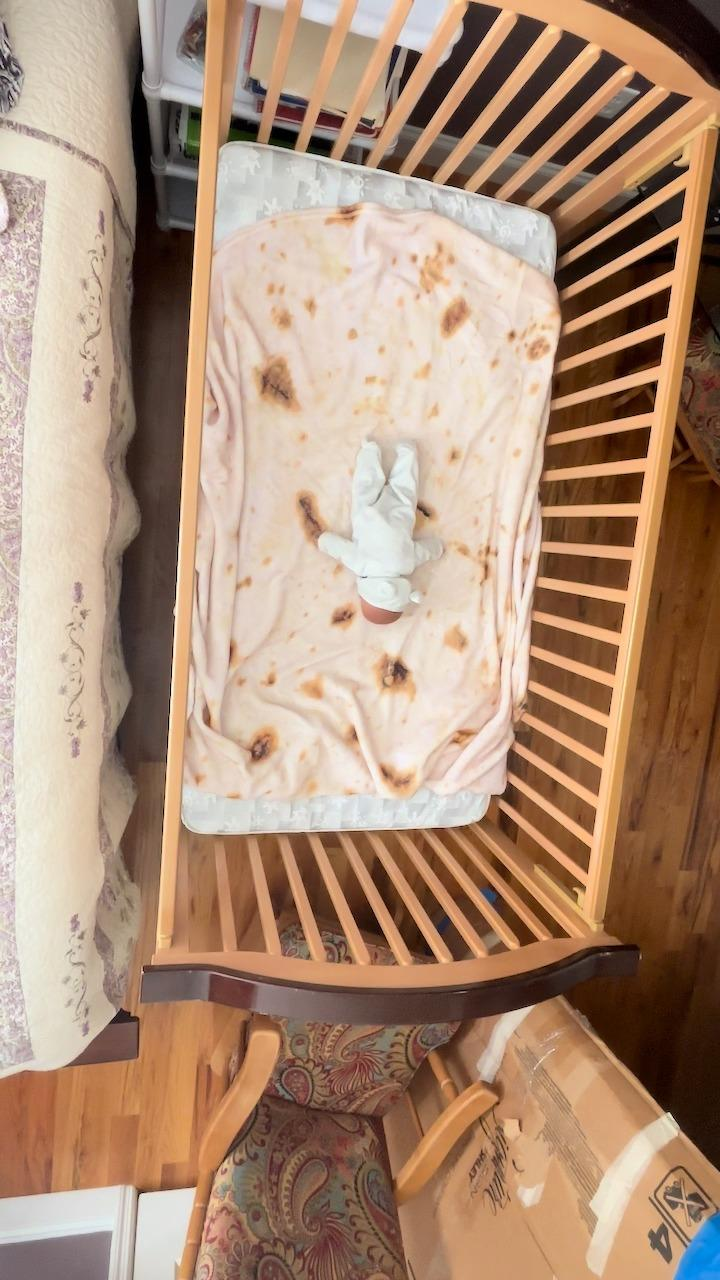baby: (314, 437, 450, 629)
